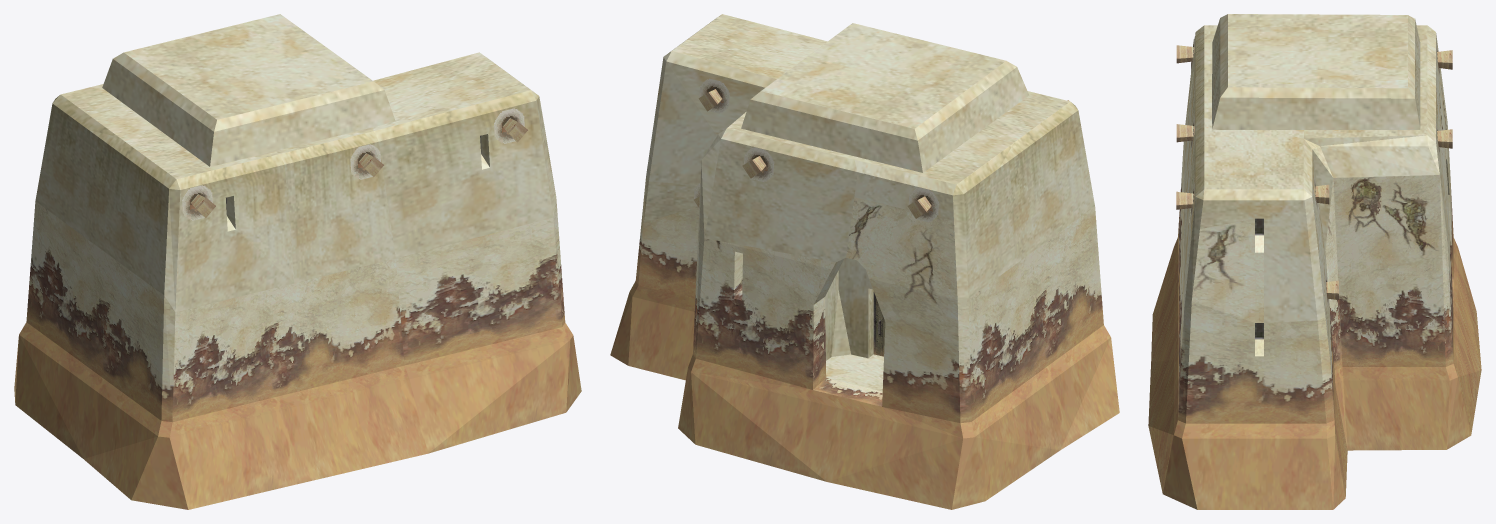
Rendered from C2SMCITY4H.obj.
3 renders of one model, left to right at view 1: azimuth 30°, elevation 25°; view 2: azimuth 150°, elevation 25°; view 3: azimuth 270°, elevation 25°, orthographic. The views are drawn at different scales.
Visible parts, largest first — view 1: Node 0; view 2: Node 0; view 3: Node 0.
Boxes of the visible parts, x1=… form: Node 0: x1=14, y1=14, x2=581, y2=509; Node 0: x1=610, y1=14, x2=1119, y2=509; Node 0: x1=1148, y1=14, x2=1481, y2=509.
Bounding box in the file's own units: 18.43 × 13.53 × 12.29.
Materials: 4 (4 with a texture image).
